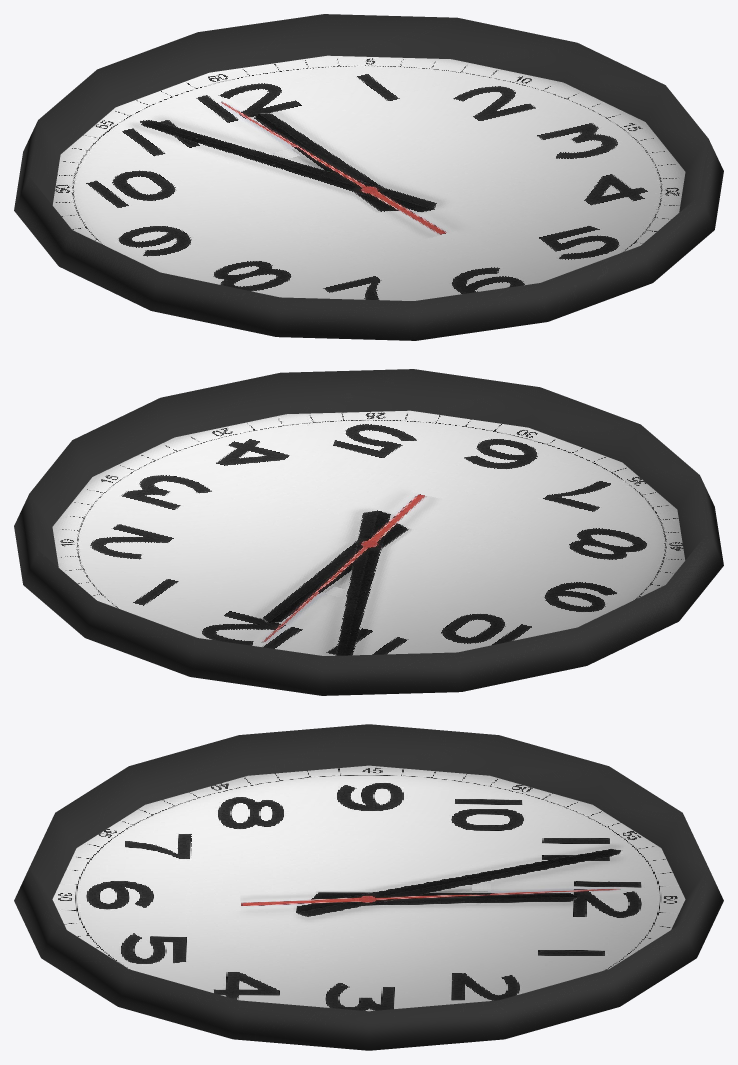
File: clock.glb
The picture shows the model from 3 angles, top to bottom: view 1: azimuth 30°, elevation 25°; view 2: azimuth 150°, elevation 25°; view 3: azimuth 270°, elevation 25°; orthographic projection.
Visible parts, largest first — view 1: clock; view 2: clock; view 3: clock.
Boxes of the visible parts, box(x1,y1,x2,y2) form: clock: box(14, 14, 723, 340); clock: box(14, 369, 723, 695); clock: box(14, 724, 723, 1050).
Size of the model in its own units: 0.3685 by 0.0189 by 0.3685.
Materials: 1 (1 with a texture image).
